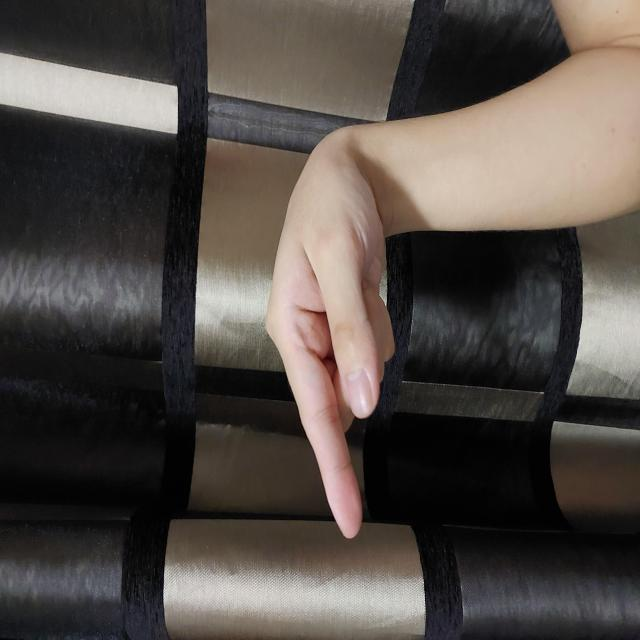Z: (98, 264, 488, 396)
